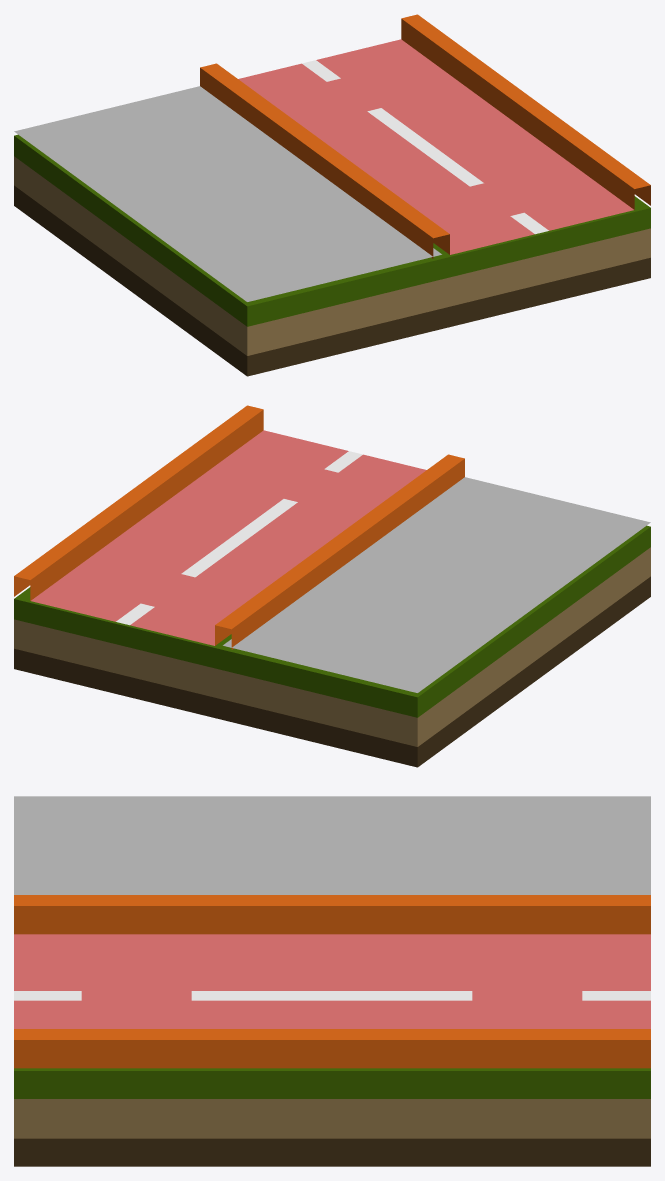
File: bike road_merge feedback.fbx
3 renders of one model, top to bottom at view 1: azimuth 30°, elevation 25°; view 2: azimuth 150°, elevation 25°; view 3: azimuth 270°, elevation 25°, orthographic. The views are drawn at different scales.
Parts seen in each view (by area): view 1: bike road; view 2: bike road; view 3: bike road.
Boxes of the visible parts, box(x1,y1,x2,y2) form: bike road: box(14, 14, 650, 376); bike road: box(14, 405, 650, 767); bike road: box(14, 796, 650, 1166).
Size of the model in its own units: 199 by 43.86 by 200.
